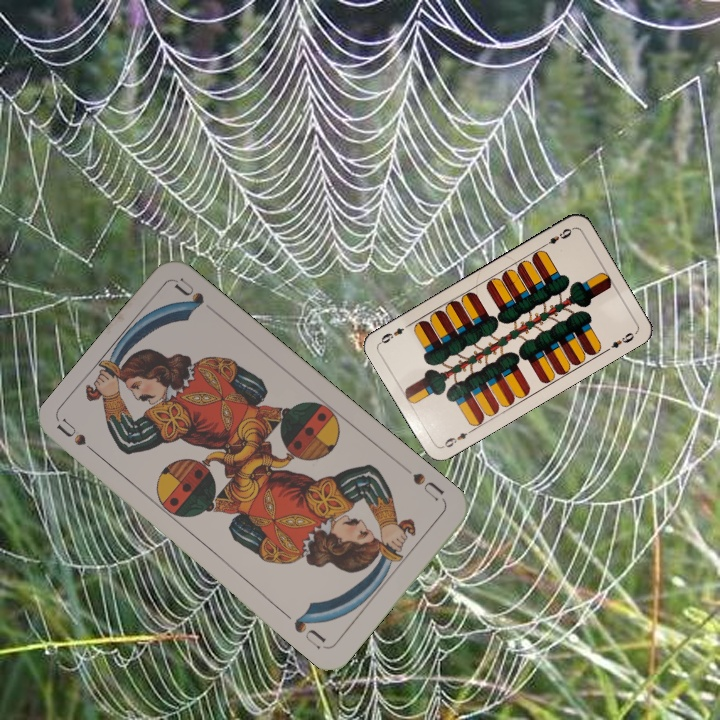E9: (439, 425, 476, 450), (539, 224, 574, 250)
SU: (55, 416, 106, 463), (408, 468, 448, 505)
